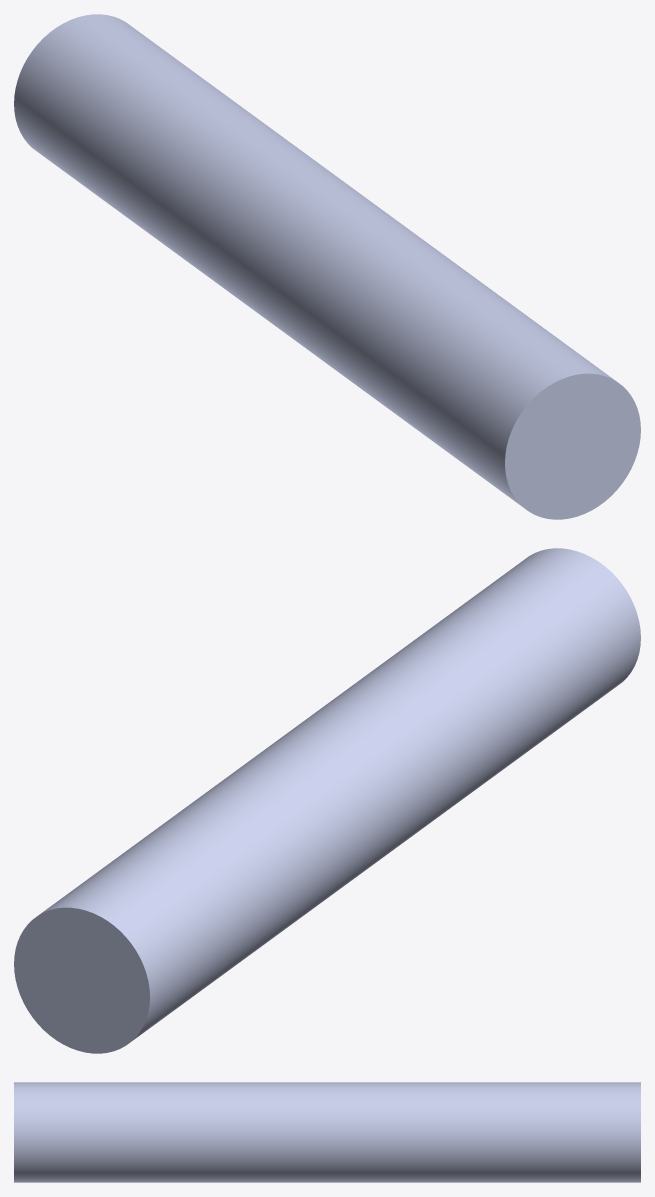
The model's file is FingerShaft.obj.
3 views of the same model, one above another, from view 1: azimuth 30°, elevation 25°; view 2: azimuth 150°, elevation 25°; view 3: azimuth 270°, elevation 25° (orthographic). The views are drawn at different scales.
Parts seen in each view (by area): view 1: mesh1, mesh0; view 2: mesh1, mesh2; view 3: mesh1.
Boxes of the visible parts, <box> form: mesh1: <box>14,14,615,506</box>; mesh0: <box>505,373,640,519</box>; mesh1: <box>39,548,640,1040</box>; mesh2: <box>14,907,149,1053</box>; mesh1: <box>14,1082,640,1182</box>.
Bounding box in the file's own units: 0.004 × 0.00399 × 0.025.
